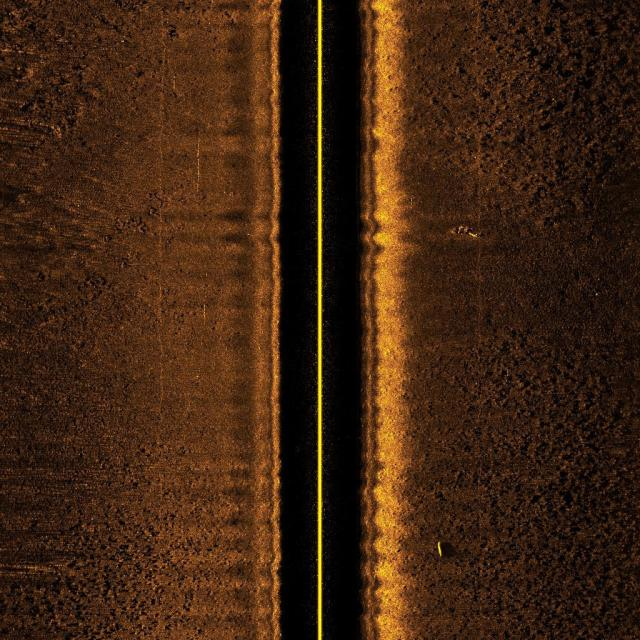mine: (432, 539, 461, 561)
